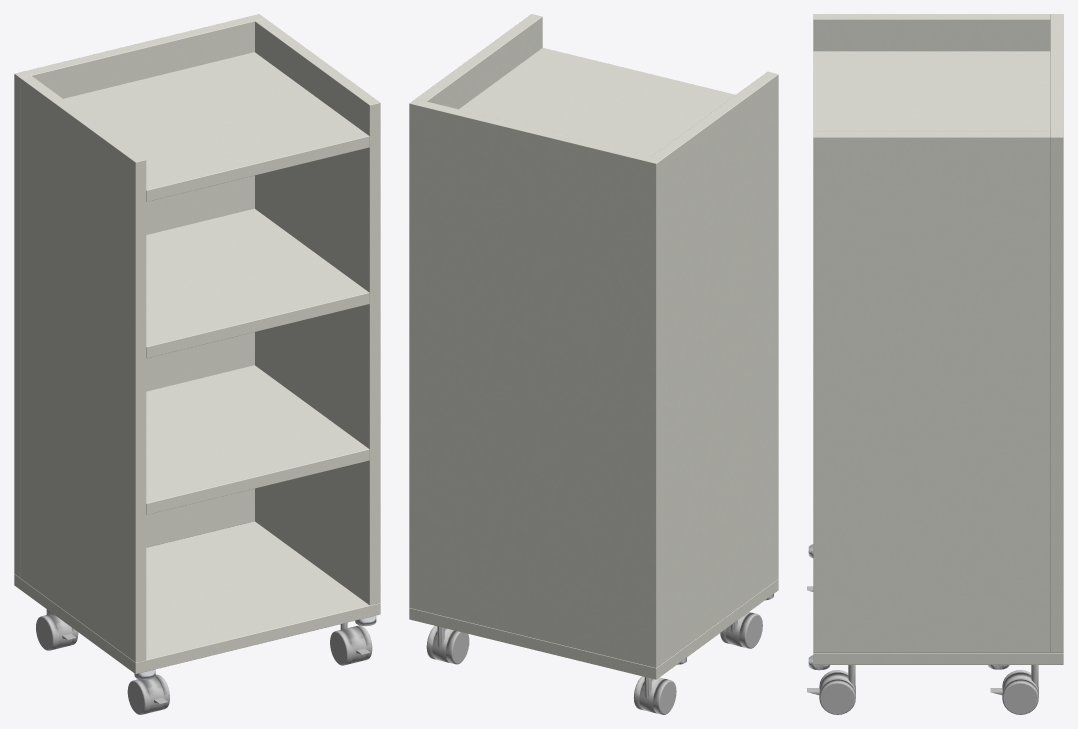
Rendered from mueble_03.glb.
3 renders of one model, left to right at view 1: azimuth 30°, elevation 25°; view 2: azimuth 150°, elevation 25°; view 3: azimuth 270°, elevation 25°, orthographic. The views are drawn at different scales.
Visible parts, largest first — view 1: Mesh30, Mesh27, Mesh28, Mesh31, Mesh25, Mesh26, Mesh29, Mesh35, Mesh45, Mesh65; view 2: Mesh25, Mesh30, Mesh28, Mesh31, Mesh27, Mesh35, Mesh45, Mesh55; view 3: Mesh27, Mesh28, Mesh30, Mesh25, Mesh31, Mesh53, Mesh63, Mesh64.
Part boxes in pixels (x1,y1,x2,y2): Mesh30: (20,76,146,662); Mesh27: (255,18,380,605); Mesh28: (63,52,369,201); Mesh31: (14,521,380,673); Mesh25: (14,14,265,578); Mesh26: (146,208,369,358); Mesh29: (146,365,369,514); Mesh35: (36,615,59,650); Mesh45: (127,679,150,714); Mesh65: (330,630,353,665); Mesh25: (409,99,662,667); Mesh30: (652,71,778,662); Mesh28: (459,48,735,156); Mesh31: (409,579,778,679); Mesh27: (416,14,542,109); Mesh35: (653,679,676,714); Mesh45: (739,612,762,648); Mesh55: (446,630,469,664); Mesh27: (813,131,1050,652); Mesh28: (813,51,1050,131); Mesh30: (813,14,1050,51); Mesh25: (1050,14,1063,652); Mesh31: (813,653,1063,664); Mesh53: (1002,679,1038,714); Mesh63: (819,679,855,714); Mesh64: (822,685,852,712).
Size of the model in its own units: 0.4 by 0.878 by 0.3509.
3 materials, 2 textured.
